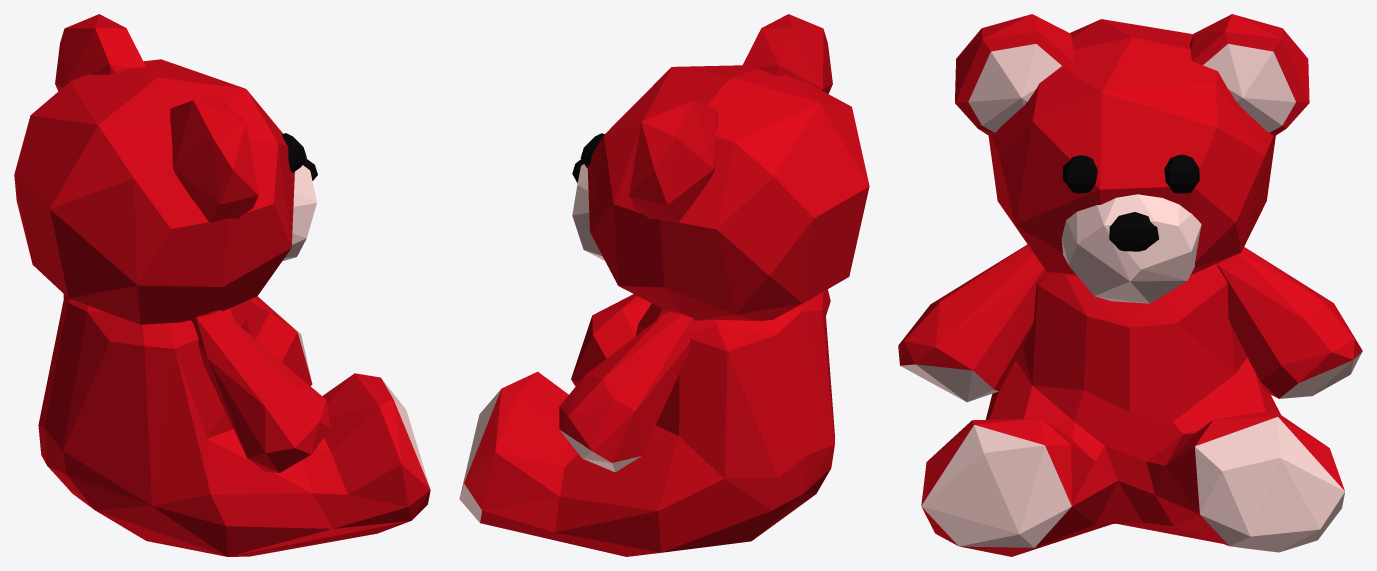
The model's file is Bear.fbx.
The picture shows the model from 3 angles, left to right: view 1: azimuth 30°, elevation 25°; view 2: azimuth 150°, elevation 25°; view 3: azimuth 270°, elevation 25°; orthographic projection.
Visible parts, largest first — view 1: Bear; view 2: Bear; view 3: Bear.
Boxes of the visible parts, x1,y1,x2,y2 form: Bear: [14, 14, 430, 556]; Bear: [459, 14, 869, 556]; Bear: [898, 14, 1362, 556].
Bounding box in the file's own units: 1.45 × 2.03 × 1.77.
